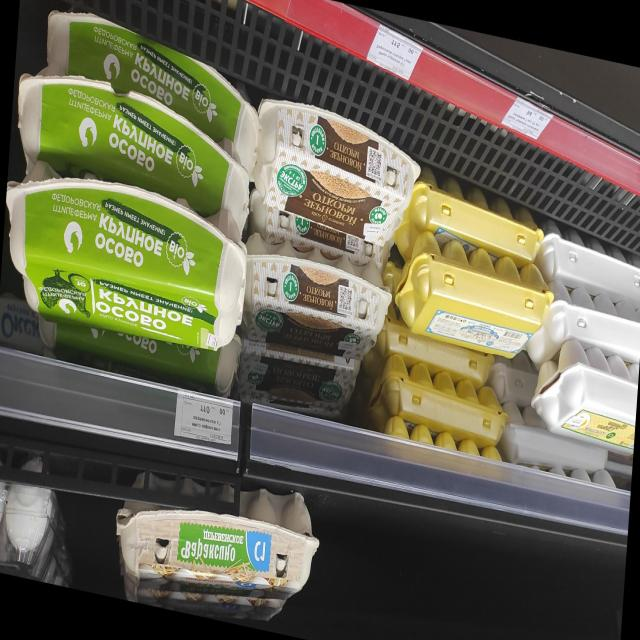organic waste: (1, 157, 250, 357), (10, 63, 252, 212), (113, 447, 323, 616), (252, 104, 424, 246), (240, 236, 394, 368)
